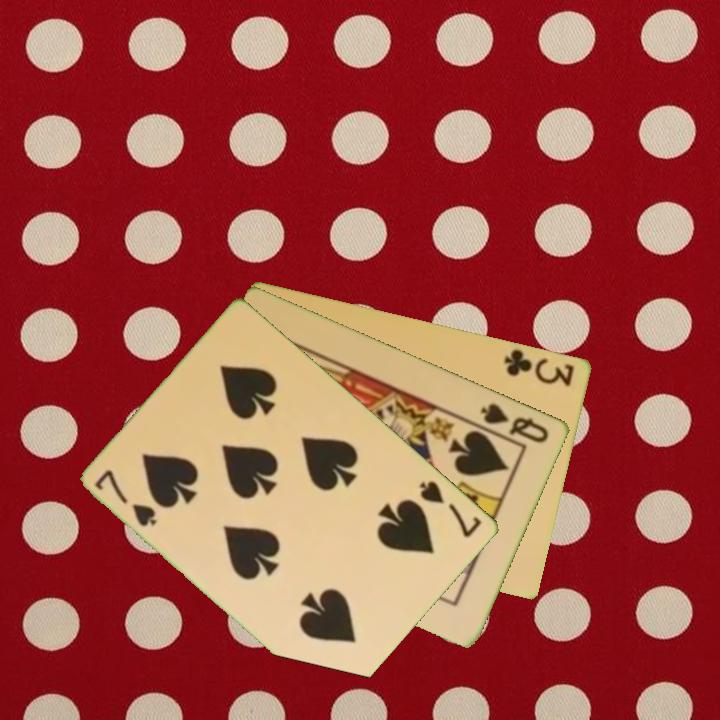3c: (501, 345, 578, 389)
7s: (91, 466, 161, 530), (416, 477, 485, 541)
Qs: (477, 399, 552, 446)
